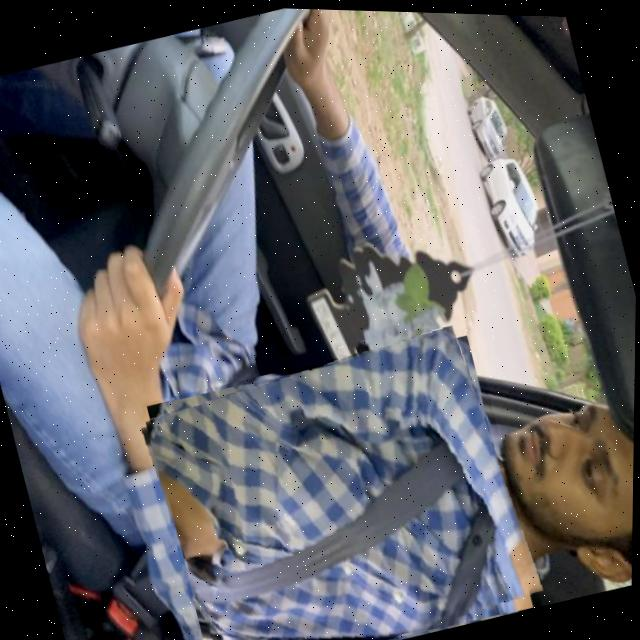seatbelt: (139, 313, 546, 640)
